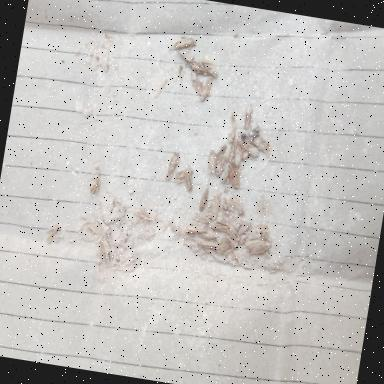pbw: (174, 47, 202, 69), (200, 54, 222, 78), (243, 236, 270, 255), (164, 148, 180, 180), (88, 164, 103, 196), (198, 72, 214, 101), (170, 36, 198, 52), (186, 70, 206, 92), (226, 110, 238, 144), (242, 100, 255, 130), (95, 238, 111, 262), (187, 58, 208, 76), (242, 139, 262, 156), (44, 223, 60, 244), (250, 134, 271, 150), (183, 222, 207, 236), (228, 198, 248, 214), (214, 153, 227, 177), (134, 207, 154, 222), (214, 140, 227, 162), (206, 148, 217, 174), (94, 216, 112, 231), (84, 220, 103, 234), (214, 240, 233, 254), (198, 238, 220, 250), (226, 138, 237, 162), (182, 166, 194, 186), (210, 197, 220, 220), (209, 222, 228, 234), (224, 234, 240, 248), (236, 222, 249, 238), (194, 212, 210, 224), (201, 230, 218, 241), (225, 222, 238, 236), (235, 130, 244, 149), (198, 194, 208, 210), (219, 213, 232, 224), (238, 150, 252, 160), (221, 168, 229, 184)
